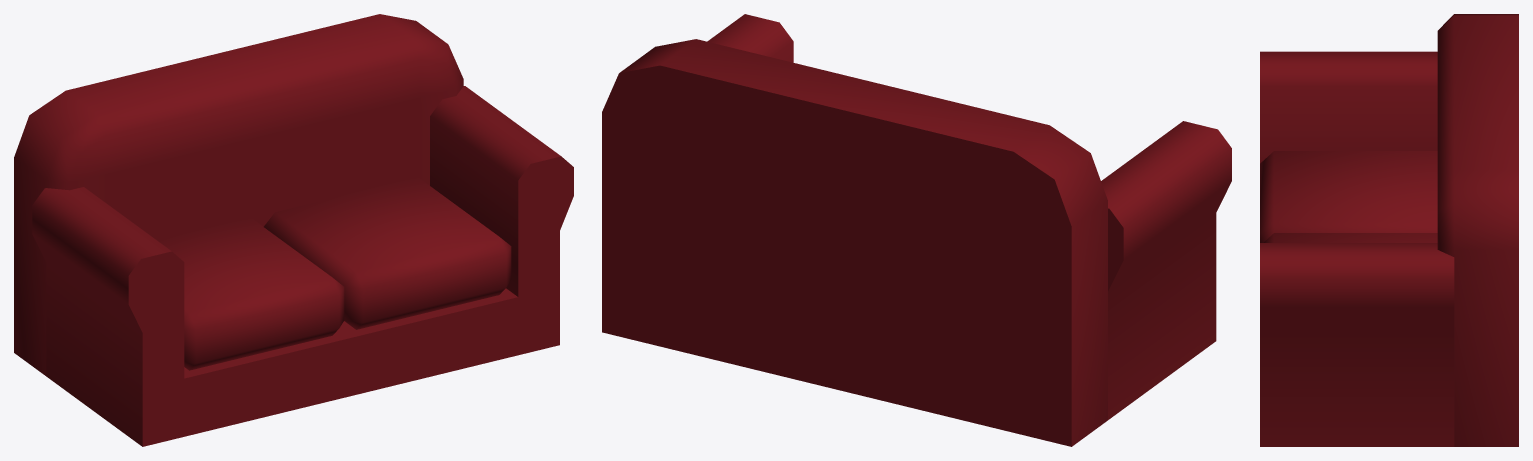
The model's file is Mesh_SillonDoble.fbx.
The picture shows the model from 3 angles, left to right: view 1: azimuth 30°, elevation 25°; view 2: azimuth 150°, elevation 25°; view 3: azimuth 270°, elevation 25°; orthographic projection. The views are drawn at different scales.
Visible parts, largest first — view 1: Mesh_SillonDoble; view 2: Mesh_SillonDoble; view 3: Mesh_SillonDoble.
Part boxes in pixels (x1=…): Mesh_SillonDoble: x1=14, y1=14, x2=573, y2=446; Mesh_SillonDoble: x1=602, y1=14, x2=1231, y2=446; Mesh_SillonDoble: x1=1260, y1=14, x2=1518, y2=446.
Bounding box in the file's own units: 128 × 68.61 × 64.
